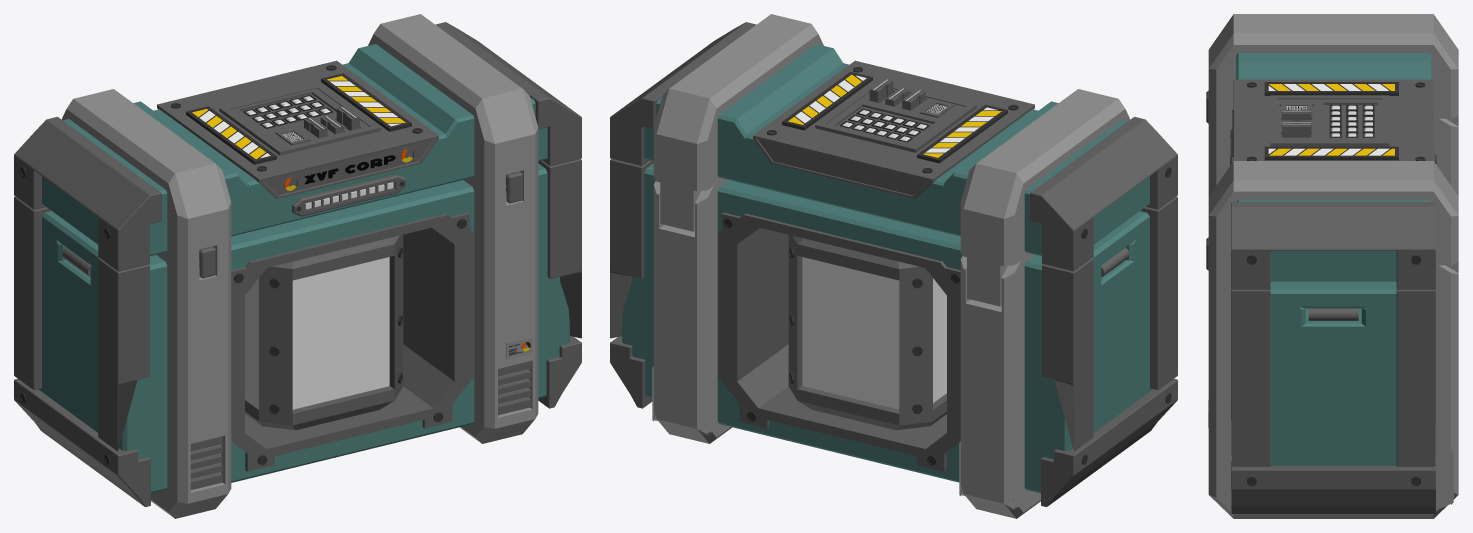
Rendered from sci-fi_box_model_post_rig.fbx.
The picture shows the model from 3 angles, left to right: view 1: azimuth 30°, elevation 25°; view 2: azimuth 150°, elevation 25°; view 3: azimuth 270°, elevation 25°; orthographic projection. The views are drawn at different scales.
Parts seen in each view (by area): view 1: geo.crate_base.000, geo.crate_sides.000, geo.create_protect_sides.000, geo.crate_top.001, geo.create_center_cover.000, geo.crate_top.000, geo.crate_top.002, geo.crate_glass.000, geo.crate_case.000, geo.crate_ui_holder.000, geo.crate_vents.000, geo.warning.000 (+6 smaller); view 2: geo.crate_base.000, geo.crate_sides.000, geo.crate_top.001, geo.create_protect_sides.000, geo.create_center_cover.000, geo.crate_top.000, geo.crate_top.002, geo.crate_glass.000, geo.crate_ui_holder.000, geo.crate_case.000, geo.back_ui.000, geo.warning.000 (+4 smaller); view 3: geo.crate_top.001, geo.create_protect_sides.000, geo.crate_base.000, geo.crate_sides.000, geo.crate_top.002, geo.crate_top.000, geo.crate_ui_holder.000, geo.warning.000, geo.back_ui.000, geo.crate_ui_holder.001, geo.warning.001, geo.ui.000 (+4 smaller).
Boxes of the visible parts, x1,y1,x2,y2 form: geo.crate_base.000: (39, 163, 569, 493); geo.crate_sides.000: (151, 176, 538, 518); geo.create_protect_sides.000: (14, 159, 581, 506); geo.crate_top.001: (61, 14, 538, 265); geo.create_center_cover.000: (231, 212, 473, 471); geo.crate_top.000: (42, 44, 547, 255); geo.crate_top.002: (14, 22, 581, 271); geo.crate_glass.000: (245, 257, 389, 409); geo.crate_case.000: (245, 235, 403, 430); geo.crate_ui_holder.000: (157, 60, 438, 198); geo.crate_vents.000: (190, 361, 531, 489); geo.warning.000: (186, 73, 411, 164); geo.crate_base.000: (622, 163, 1152, 493); geo.crate_sides.000: (652, 178, 1040, 518); geo.crate_top.001: (653, 14, 1130, 306); geo.create_protect_sides.000: (610, 159, 1177, 506); geo.create_center_cover.000: (718, 212, 960, 471); geo.crate_top.000: (644, 44, 1149, 255); geo.crate_top.002: (610, 22, 1177, 271); geo.crate_glass.000: (802, 257, 946, 409); geo.crate_ui_holder.000: (753, 60, 1034, 198); geo.crate_case.000: (788, 235, 946, 430); geo.back_ui.000: (826, 89, 965, 144); geo.warning.000: (782, 71, 1007, 163); geo.crate_top.001: (1208, 14, 1458, 272); geo.create_protect_sides.000: (1231, 289, 1435, 513); geo.crate_base.000: (1270, 281, 1396, 465); geo.crate_sides.000: (1208, 115, 1458, 518); geo.crate_top.002: (1231, 202, 1435, 289); geo.crate_top.000: (1236, 53, 1431, 281); geo.crate_ui_holder.000: (1233, 79, 1433, 160); geo.warning.000: (1264, 82, 1398, 160); geo.back_ui.000: (1277, 99, 1382, 140); geo.crate_ui_holder.001: (1270, 95, 1389, 146); geo.warning.001: (1268, 84, 1394, 155); geo.ui.000: (1329, 105, 1374, 137).
Size of the model in its own units: 152 by 107 by 72.32.
